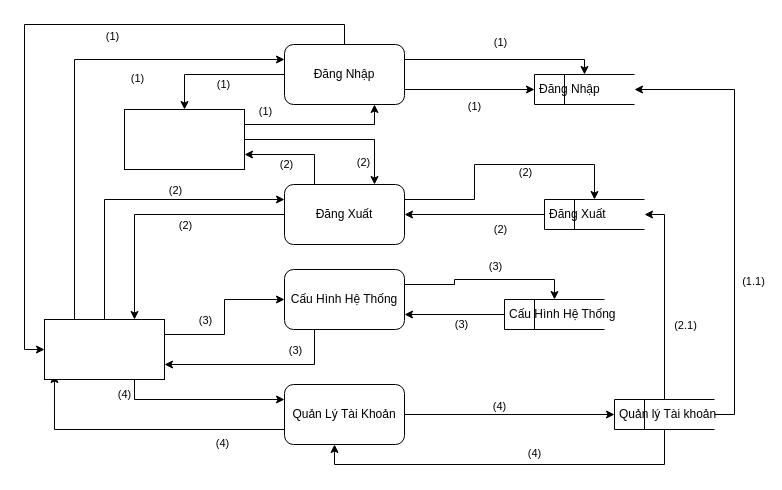
Some shapes in this 782 by 490 pixel diagram are drawn without their labels. Here are the shapes that lost their labels. From the top down, the centre of each, then its label:
point 184,139: Khách Hàng
point 104,349: Nhân Viên
